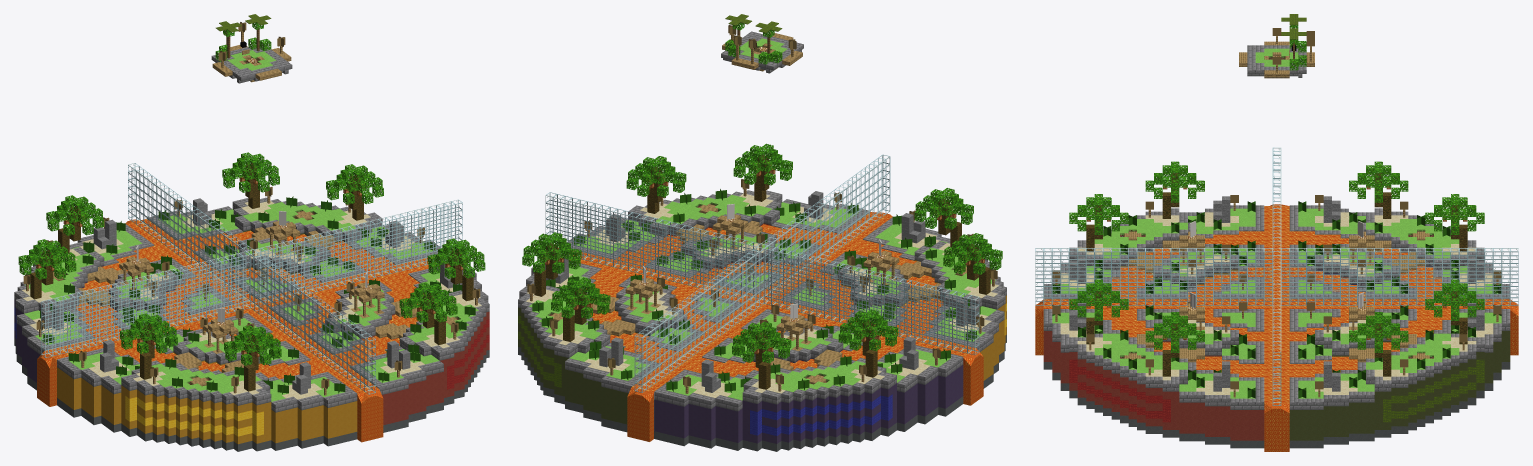
The model's file is minecraft.obj.
3 renders of one model, left to right at view 1: azimuth 30°, elevation 25°; view 2: azimuth 150°, elevation 25°; view 3: azimuth 270°, elevation 25°, orthographic. The views are drawn at different scales.
Size of the model in its own units: 57 by 42.06 by 57.
